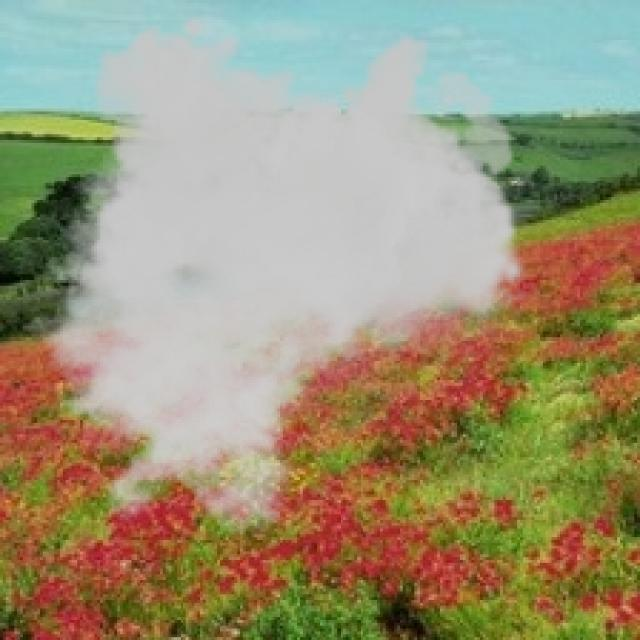smoke: (3, 12, 528, 537)
